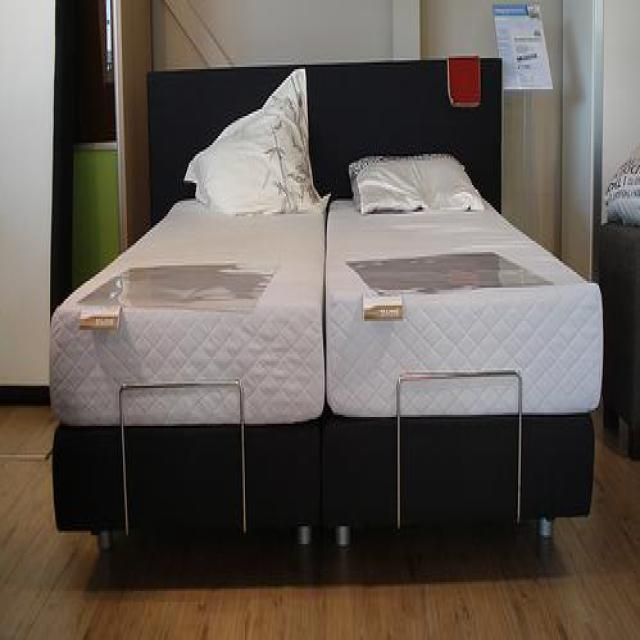bed: (48, 53, 598, 557)
